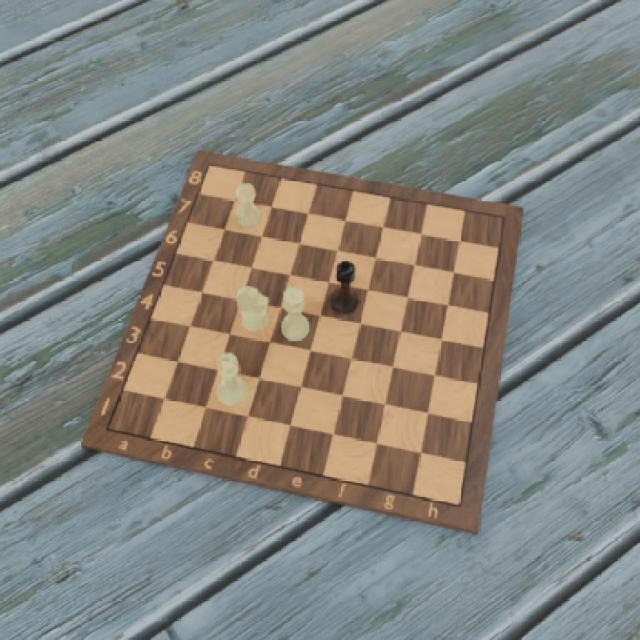black-king: (328, 258, 358, 314)
white-king: (216, 349, 247, 410)
white-knight: (235, 283, 268, 337)
white-queen: (279, 282, 311, 345)
white-rook: (234, 180, 262, 228)
